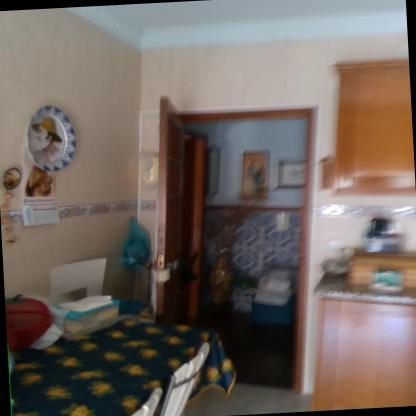open: (142, 84, 336, 402)
